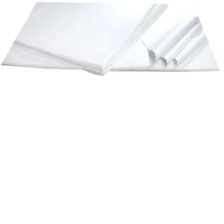tissue: (0, 0, 224, 75), (10, 0, 172, 78)
